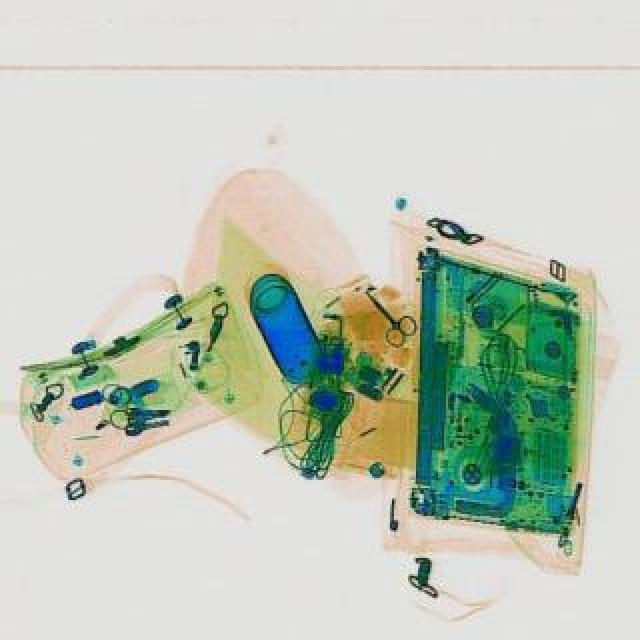pliers: (348, 278, 422, 348)
